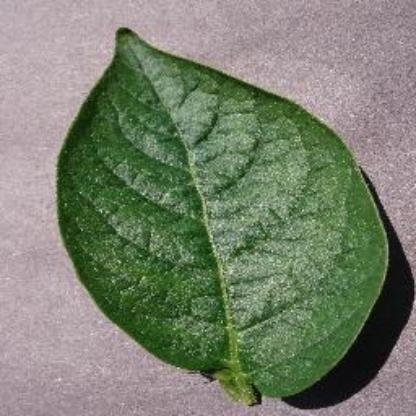Healthy-plant: (46, 13, 402, 406)
